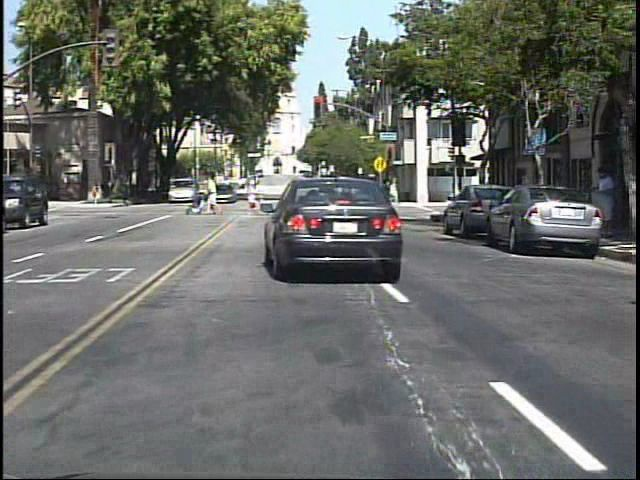person: (594, 162, 620, 214), (206, 171, 227, 218), (93, 180, 108, 207), (124, 175, 125, 205)
